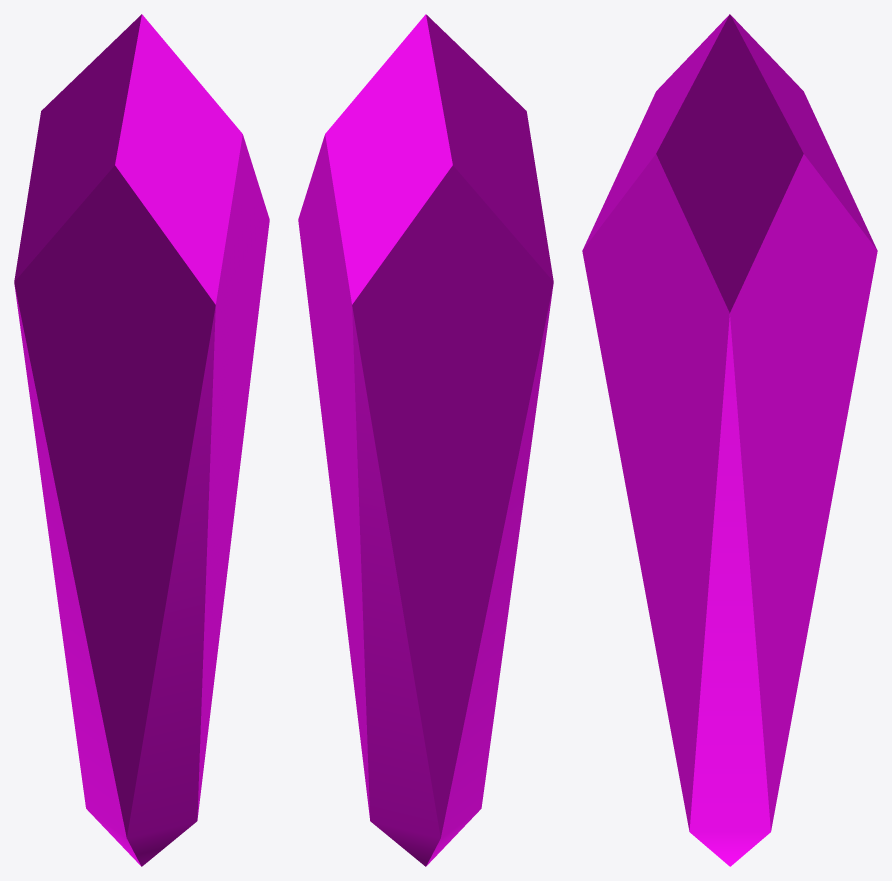
The model's file is cristal.obj.
The picture shows the model from 3 angles, left to right: view 1: azimuth 30°, elevation 25°; view 2: azimuth 150°, elevation 25°; view 3: azimuth 270°, elevation 25°; orthographic projection.
Parts seen in each view (by area): view 1: Plane002; view 2: Plane002; view 3: Plane002.
Boxes of the visible parts, left/top/right/bottom form: Plane002: left=14, top=14, right=269, bottom=866; Plane002: left=298, top=14, right=553, bottom=866; Plane002: left=582, top=14, right=877, bottom=866.
Bounding box in the file's own units: 0.719 × 2.29 × 0.7196.
Materials: 1 (1 with a texture image).
